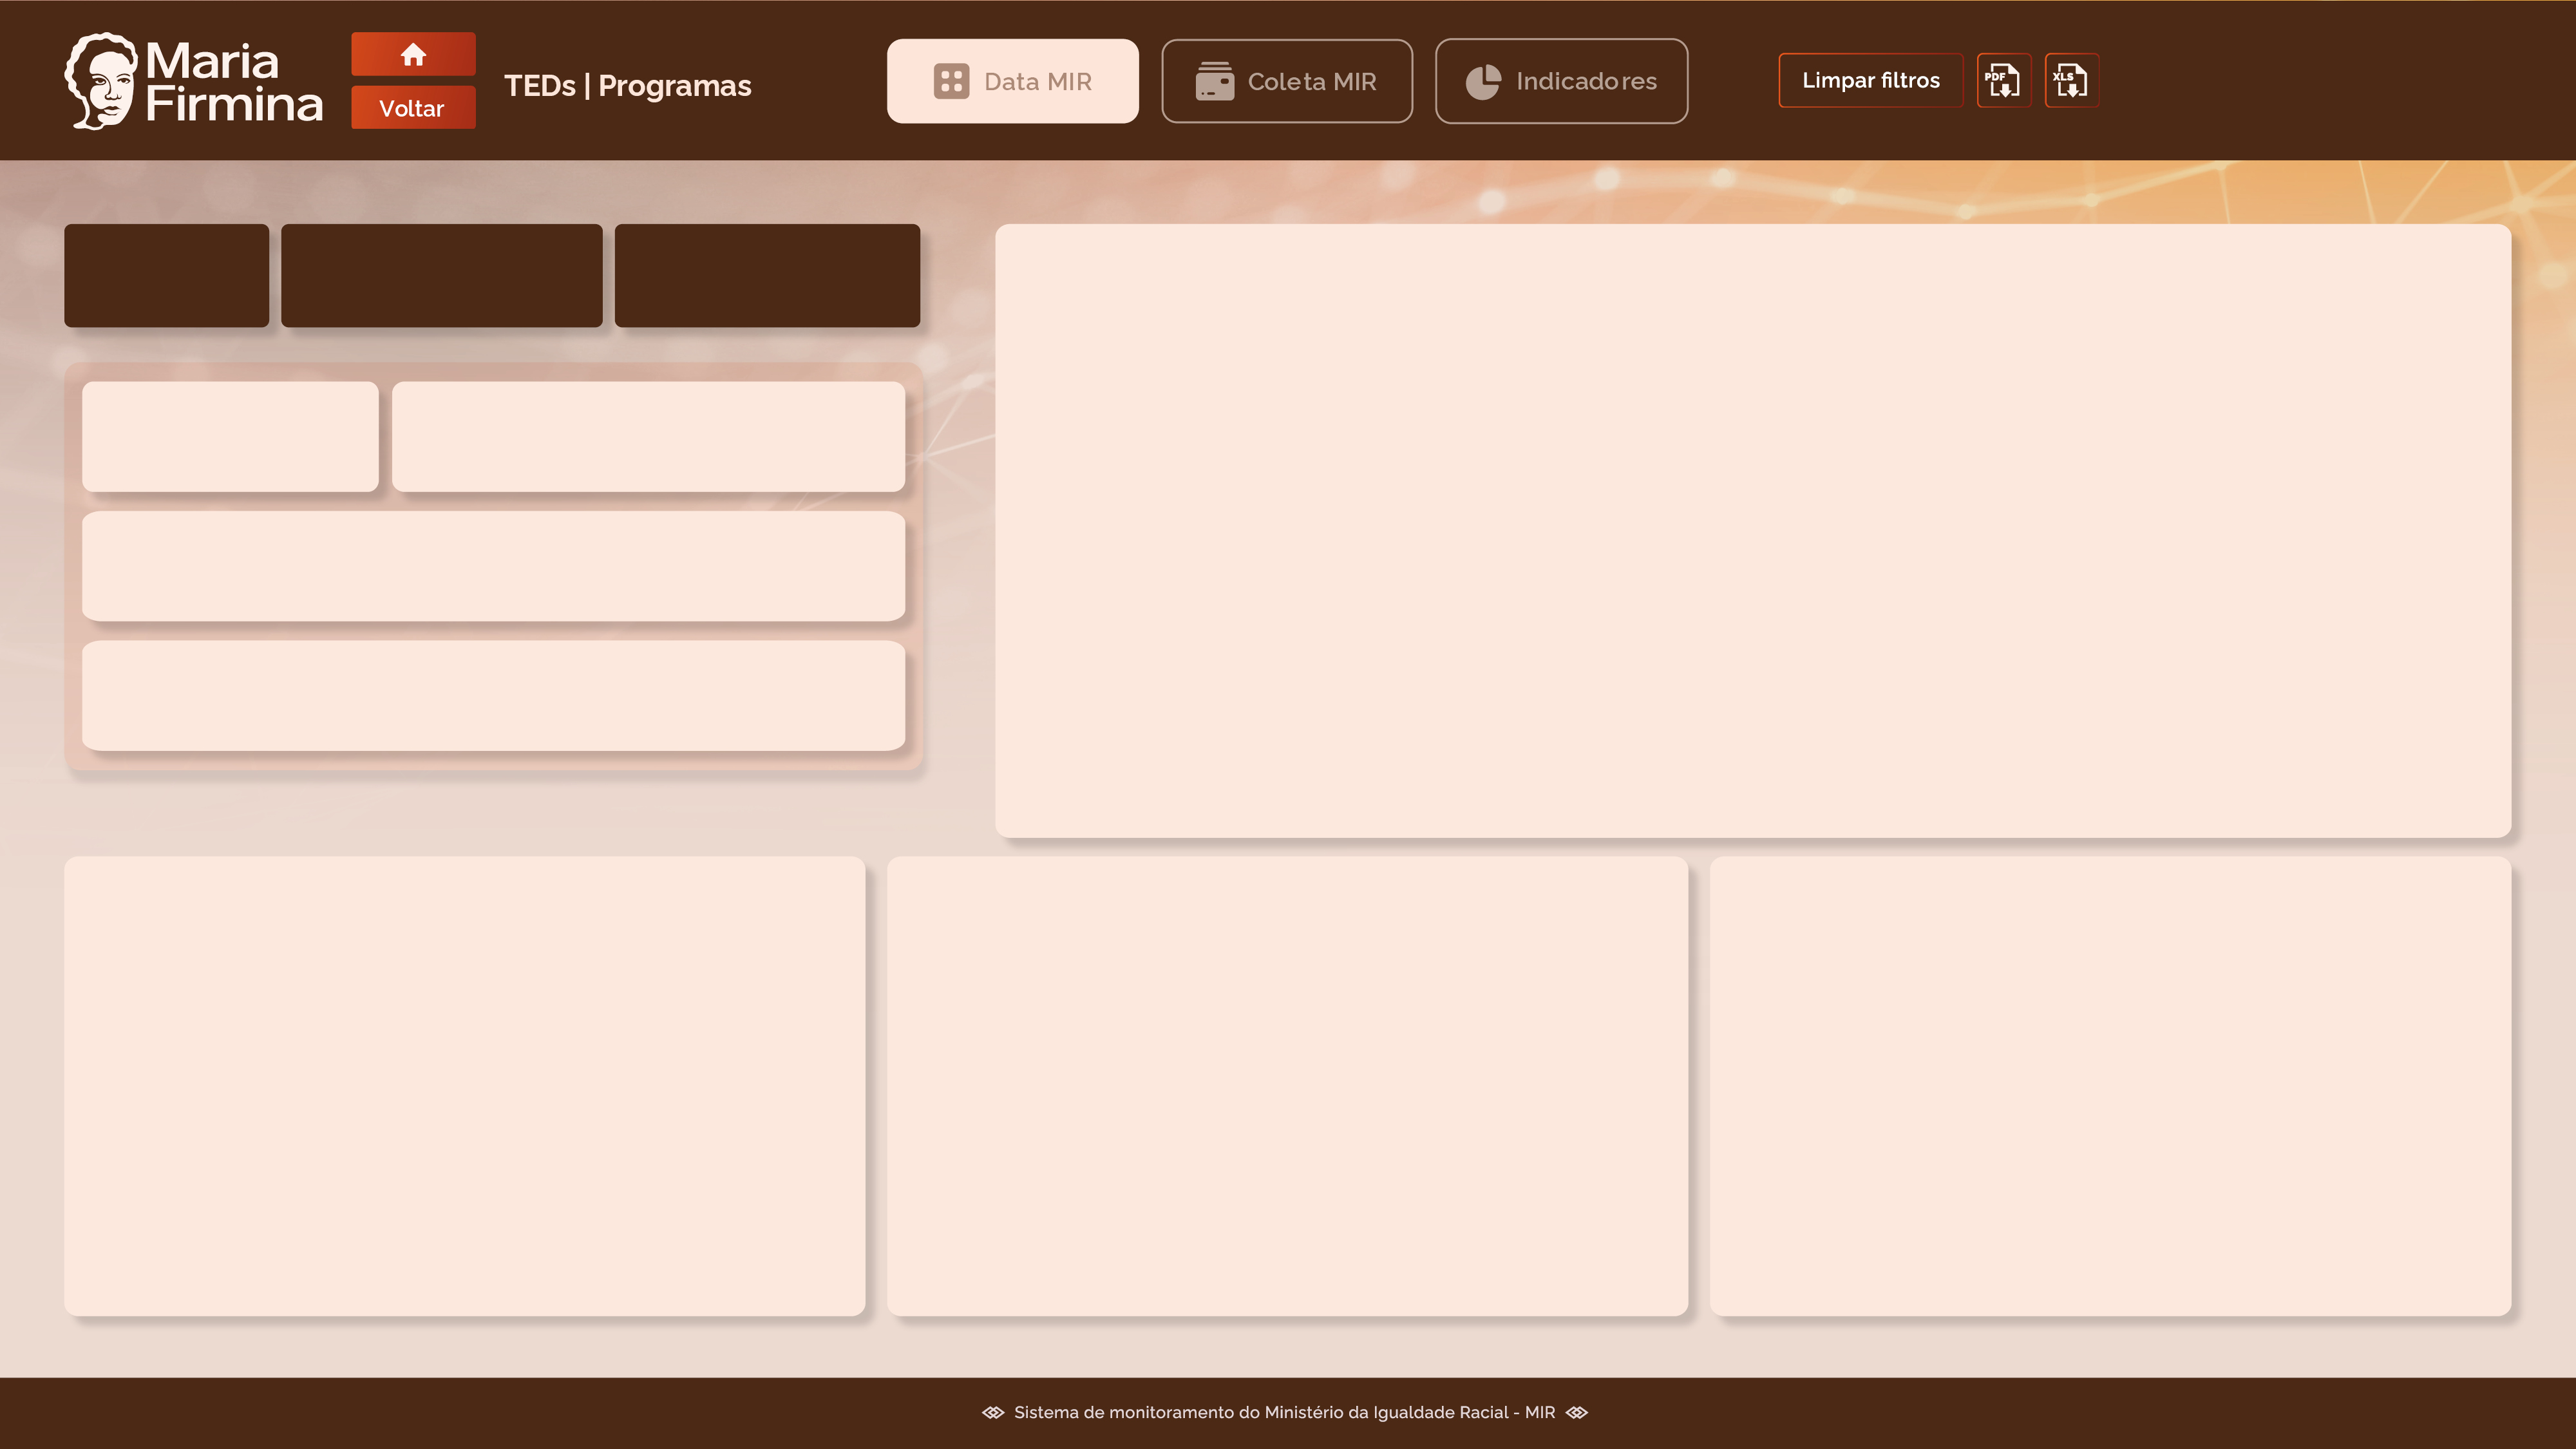

The page's visual inventory and layout, read from the dashboard file:
{"tool":"powerbi","page":{"name":"Convênios Detalhamento","canvas":[1920,1080],"ordinal":17},"visuals":[{"type":"tableEx","fields":{"Values":["resumo_convenios.data_assinatura.Variation.Hierarquia de datas.Ano","resumo_convenios.nr_convenio","resumo_convenios.situacao_atual","resumo_convenios.modalidade_instrumento","resumo_convenios.parlamentares","resumo_convenios.uf_execucao","resumo_convenios.categoria_convenente","resumo_convenios.nome_convenente","resumo_convenios.objeto","resumo_convenios.data_assinatura","resumo_convenios.inicio_vigencia","resumo_convenios.fim_vigencia"]},"box":[54.3,392.9,1817.1,585.7],"z":0},{"type":"slicer","fields":{"Values":["resumo_convenios.nr_convenio"]},"box":[973.3,168.9,441.1,85.6],"z":1000},{"type":"slicer","fields":{"Values":["resumo_convenios.situacao_atual"]},"box":[973.3,272.2,441.1,85.6],"z":2000},{"type":"slicer","fields":{"Values":["resumo_convenios.uf_execucao"]},"box":[1430,272.2,442.2,85.6],"z":3000},{"type":"slicer","fields":{"Values":["resumo_convenios.nome_convenente"]},"box":[54.4,272.2,403.3,85.6],"z":4000},{"type":"slicer","fields":{"Values":["resumo_convenios.parlamentares"]},"box":[1430,168.9,441.1,85.6],"z":5000},{"type":"slicer","fields":{"Values":["resumo_convenios.municipio_execucao"]},"box":[483.3,273.3,464.4,84.4],"z":6000},{"type":"slicer","fields":{"Values":["resumo_convenios.categoria_convenente"]},"box":[363.3,168.9,583.3,85.6],"z":7000},{"type":"slicer","fields":{"Values":["resumo_convenios.data_assinatura.Variation.Hierarquia de datas.Ano"]},"box":[48.9,168.9,140,85.6],"z":9000},{"type":"slicer","fields":{"Values":["resumo_convenios.data_assinatura.Variation.Hierarquia de datas.Ano"]},"box":[203.3,168.9,135.6,85.6],"z":10000},{"type":"textbox","box":[54.3,991.4,773.6,27.4],"z":11000},{"type":"actionButton","box":[261.5,62,94.3,32.9],"z":12000},{"type":"actionButton","box":[261.7,22.8,92.2,33.3],"z":13000},{"type":"textbox","box":[1642.6,29.3,167.6,71.8],"z":14000},{"type":"actionButton","box":[1326.7,40.7,137.8,38.9],"z":15000},{"type":"image","box":[1820,42,53.3,37.8],"z":16000},{"type":"actionButton","box":[661.3,28.7,187.3,62.7],"z":17000},{"type":"actionButton","box":[866,28.7,187.3,62.7],"z":18000},{"type":"actionButton","box":[1069.3,30,187.3,62.7],"z":19000},{"type":"pageNavigator","box":[54,133,570,23],"z":20000}]}

Visuals, with their boxes on the page's 1920x1080 design canvas (x1, y1, x2, y2). These are canvas units, not pixel positions in the 2576x1449 screenshot, which may show the page scaled, cropped or inside an application window:
tableEx - resumo_convenios.data_assinatura.Variation.Hierarquia de datas.Ano x resumo_convenios.nr_convenio: 54:393:1871:979
slicer - resumo_convenios.nr_convenio: 973:169:1414:254
slicer - resumo_convenios.situacao_atual: 973:272:1414:358
slicer - resumo_convenios.uf_execucao: 1430:272:1872:358
slicer - resumo_convenios.nome_convenente: 54:272:458:358
slicer - resumo_convenios.parlamentares: 1430:169:1871:254
slicer - resumo_convenios.municipio_execucao: 483:273:948:358
slicer - resumo_convenios.categoria_convenente: 363:169:947:254
slicer - resumo_convenios.data_assinatura.Variation.Hierarquia de datas.Ano: 49:169:189:254
slicer - resumo_convenios.data_assinatura.Variation.Hierarquia de datas.Ano: 203:169:339:254
textbox: 54:991:828:1019
actionButton: 262:62:356:95
actionButton: 262:23:354:56
textbox: 1643:29:1810:101
actionButton: 1327:41:1464:80
image: 1820:42:1873:80
actionButton: 661:29:849:91
actionButton: 866:29:1053:91
actionButton: 1069:30:1257:93
pageNavigator: 54:133:624:156
